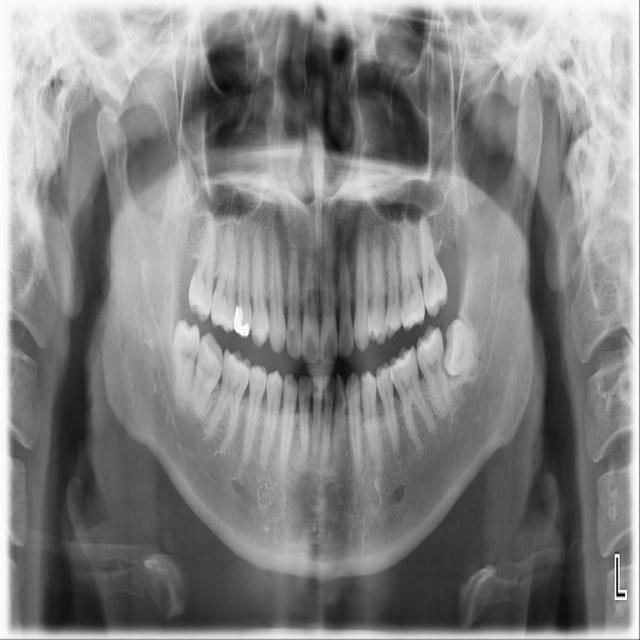Caries: (441, 355, 447, 377)
Filling: (232, 304, 252, 337)
impacted tooth: (173, 320, 199, 413), (445, 319, 487, 375)
